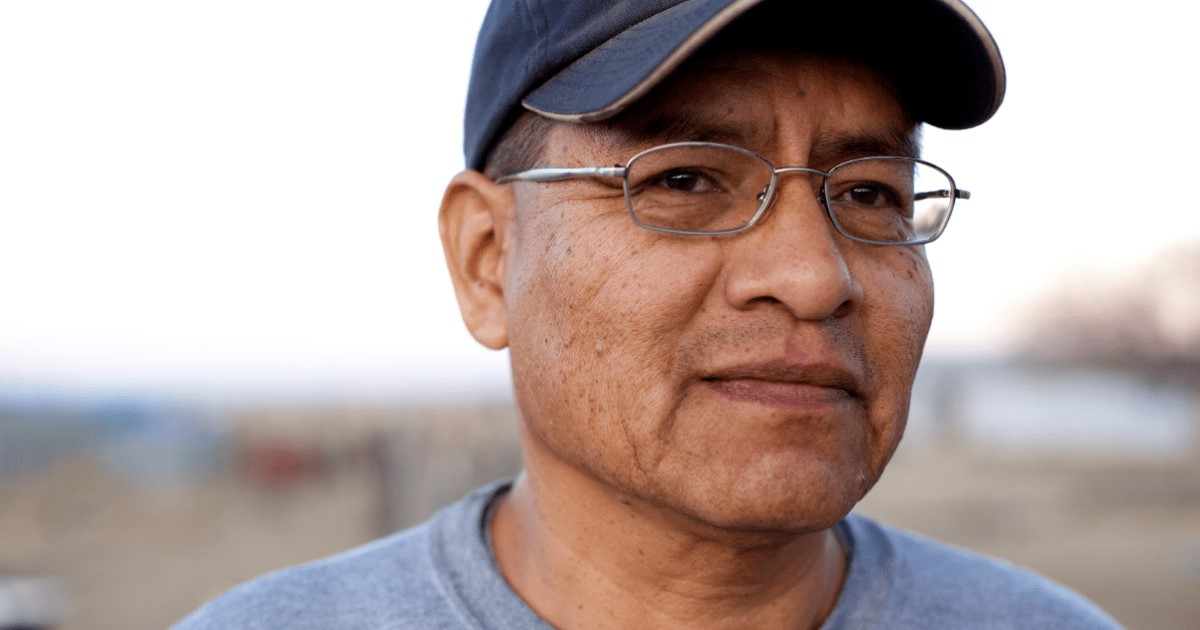face_no_mask: (456, 1, 947, 541)
